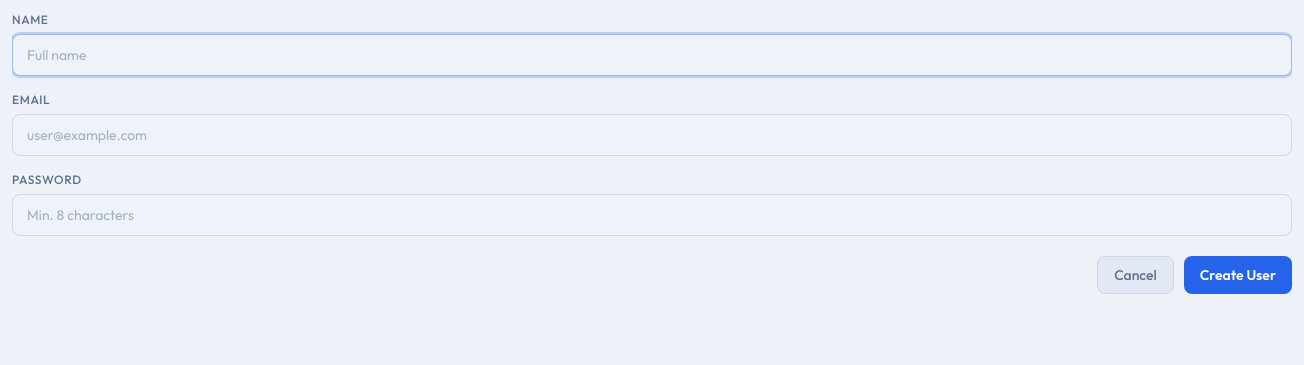
Scenario: UserForm — server errors › shows a root error banner on a non-409 server error
Type "Test User" into the field with placeholder "Full name" at [652, 55], box [12, 34, 1292, 76]
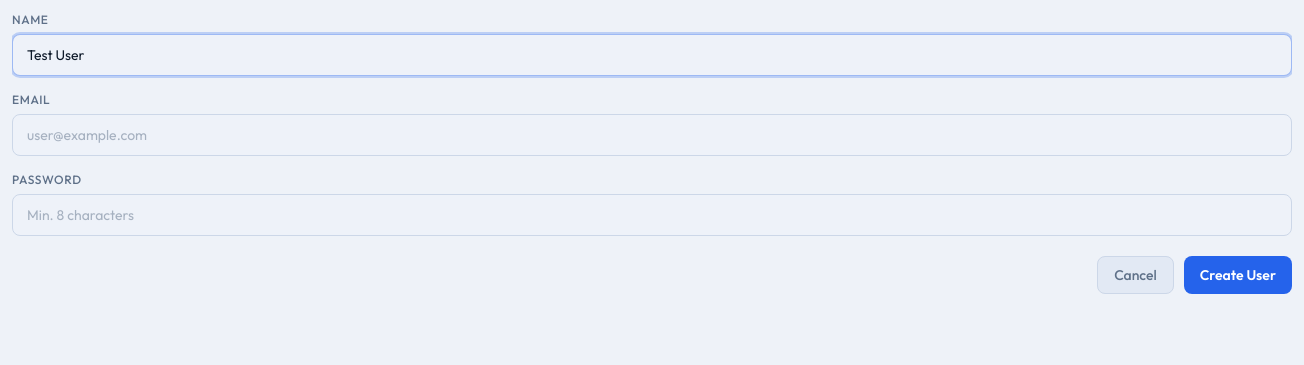
Type "test@example.com" into the field with placeholder "user@example.com" at [652, 135], box [12, 114, 1292, 156]
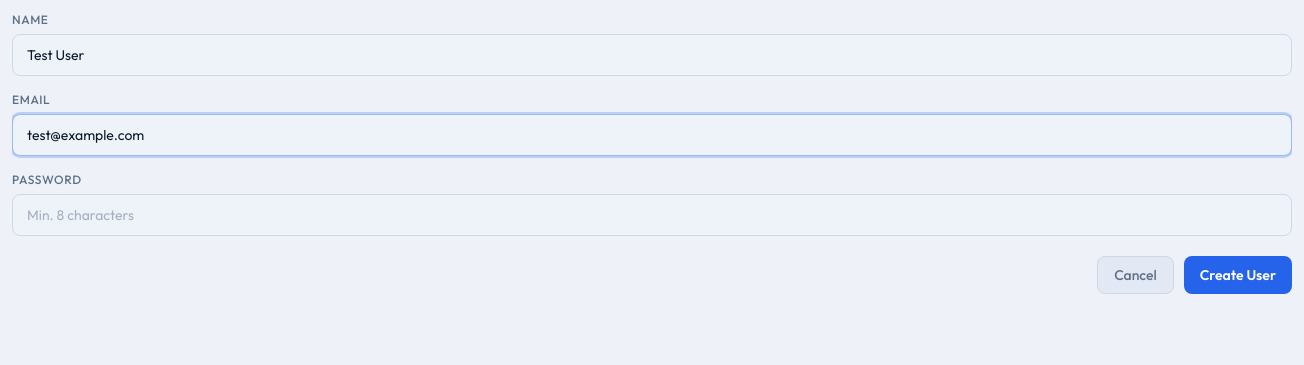
Type "password123" into the password field with placeholder "Min. 8 characters" at [652, 215], box [12, 194, 1292, 236]
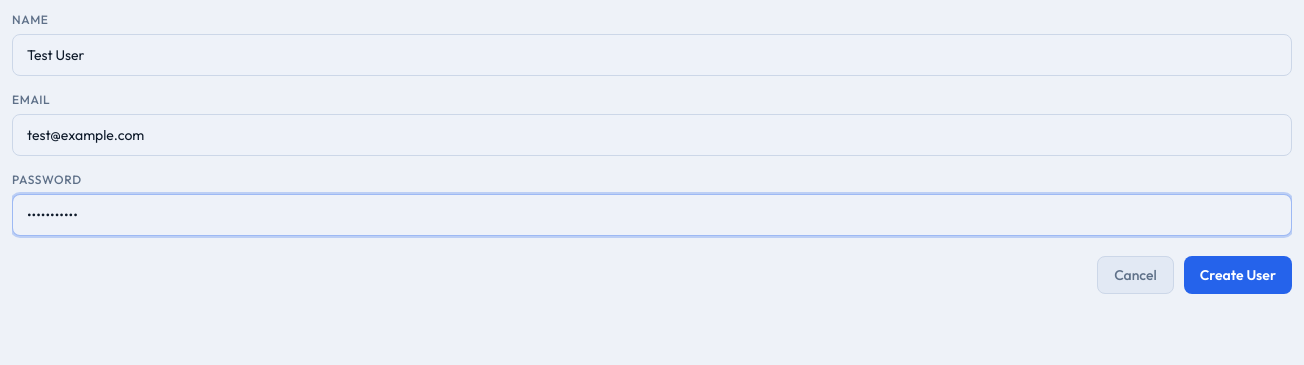
Click the button "Create User" at [1238, 275], box [1184, 256, 1292, 294]
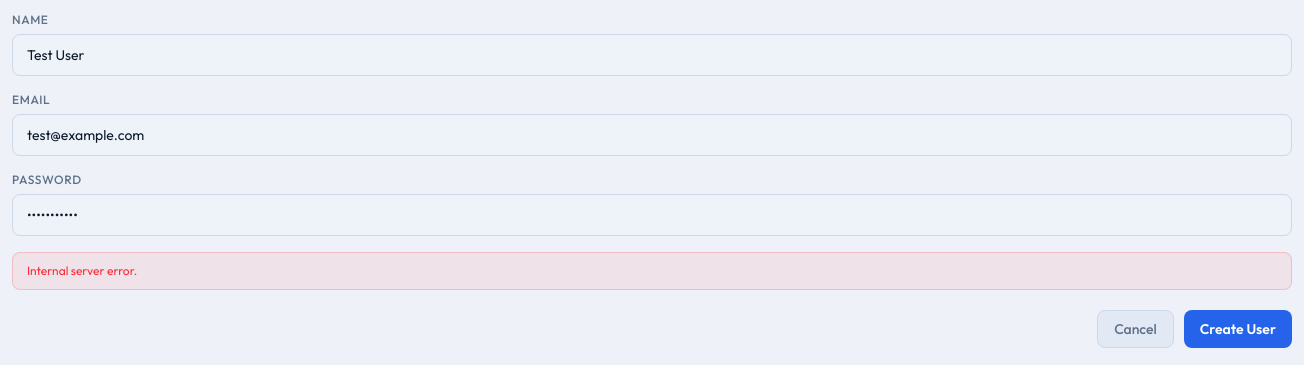
Expected: the text "Internal server error." is shown, [12, 252, 1292, 290]
